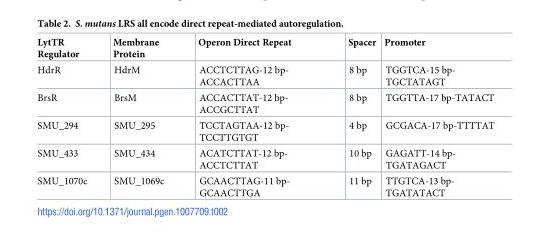table: (36, 36, 493, 197)
table column: (180, 36, 318, 197), (379, 36, 493, 197), (99, 36, 180, 197), (36, 36, 99, 197), (318, 36, 379, 197)
table column header: (36, 36, 493, 61)
table row: (36, 61, 493, 89), (36, 89, 493, 117), (36, 117, 493, 145), (36, 145, 493, 172), (36, 36, 493, 61), (36, 172, 493, 197)
